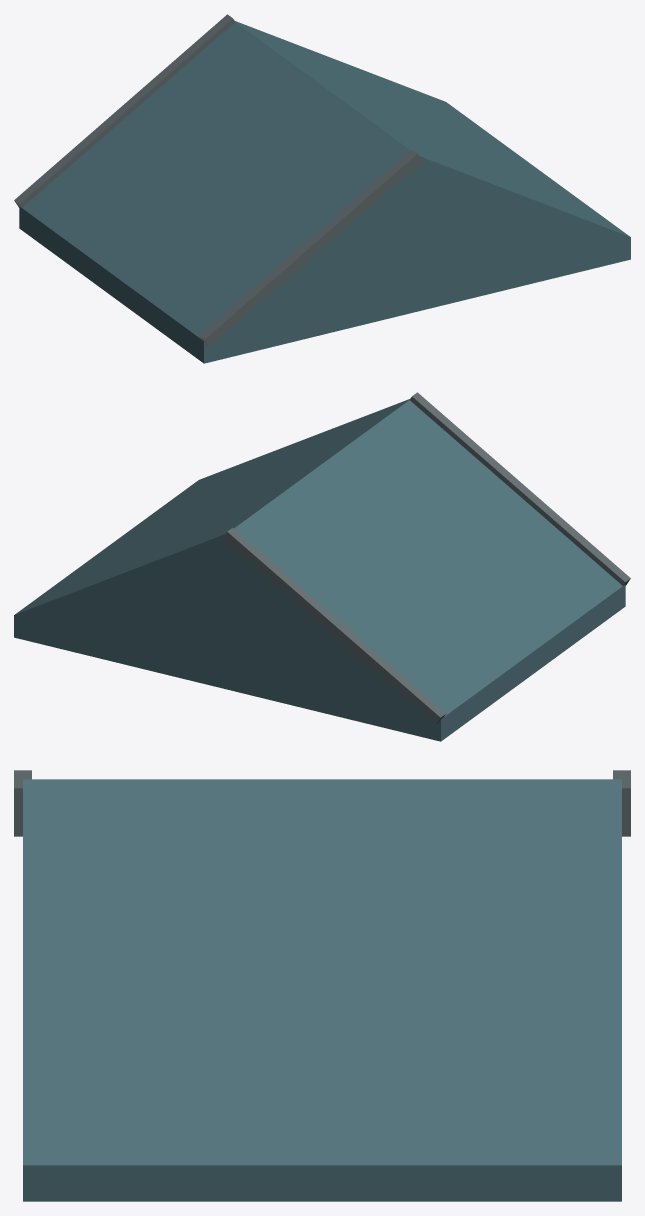
The picture shows the model from 3 angles, top to bottom: view 1: azimuth 30°, elevation 25°; view 2: azimuth 150°, elevation 25°; view 3: azimuth 270°, elevation 25°; orthographic projection. The views are drawn at different scales.
Parts seen in each view (by area): view 1: QH-A0073_V01_geometry; view 2: QH-A0073_V01_geometry; view 3: QH-A0073_V01_geometry.
Part boxes in pixels (x1=…): QH-A0073_V01_geometry: x1=14, y1=14, x2=630, y2=363; QH-A0073_V01_geometry: x1=14, y1=392, x2=630, y2=741; QH-A0073_V01_geometry: x1=14, y1=770, x2=630, y2=1201.
Bounding box in the file's own units: 2.01 × 0.7193 × 1.54.
